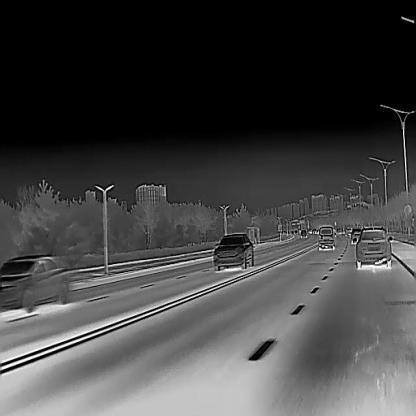car: (0, 254, 68, 312), (352, 225, 392, 268), (212, 232, 254, 270), (317, 225, 335, 250), (350, 227, 362, 237), (300, 228, 307, 238), (345, 227, 352, 235), (335, 227, 342, 234), (312, 229, 317, 234), (308, 229, 311, 234)
